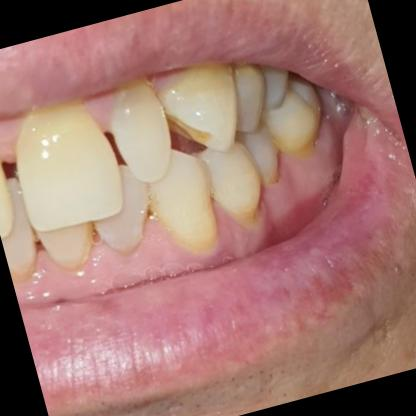Gap: (82, 94, 134, 190), (0, 131, 38, 203)
